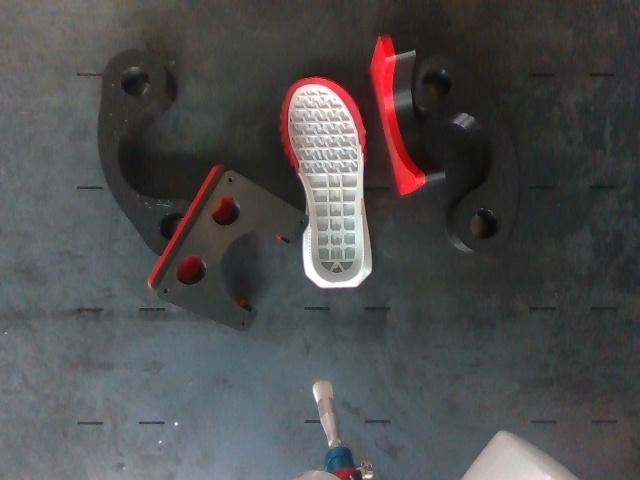shoes: (287, 79, 364, 284)
